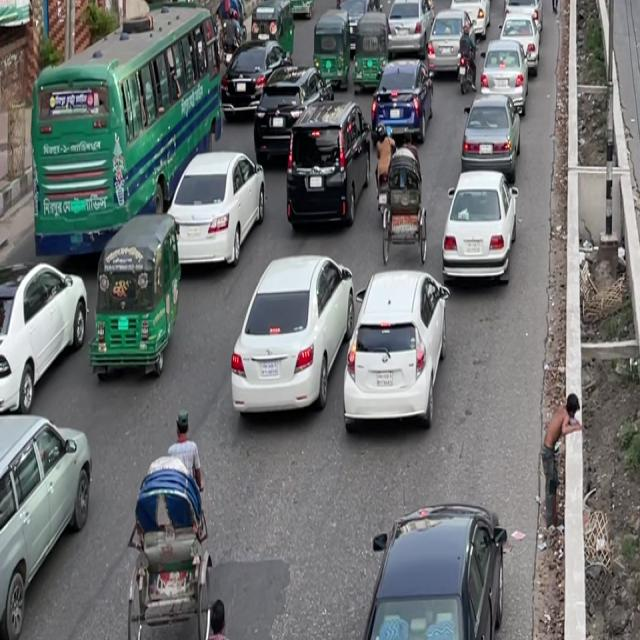bus: (30, 0, 215, 262)
car: (219, 239, 362, 434), (353, 486, 520, 639), (334, 252, 457, 444), (0, 404, 103, 624), (0, 244, 97, 427), (154, 133, 272, 282), (434, 156, 522, 300), (282, 99, 368, 241), (252, 58, 321, 168), (458, 86, 522, 187), (369, 54, 433, 153), (218, 38, 283, 124), (478, 34, 531, 117), (426, 8, 470, 88), (497, 0, 543, 71), (380, 0, 430, 62), (449, 0, 492, 40), (337, 0, 379, 20), (502, 0, 543, 14)
rickshaw: (79, 212, 186, 390), (310, 7, 353, 98), (350, 12, 390, 96), (427, 0, 458, 5)
